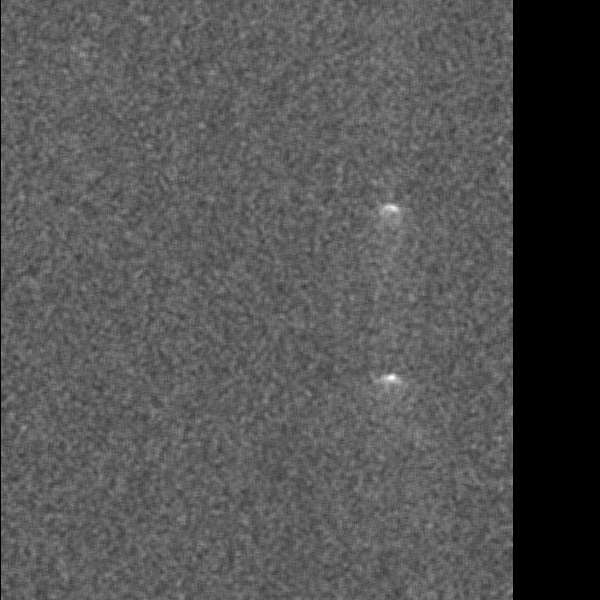spark: (493, 110, 511, 154)
